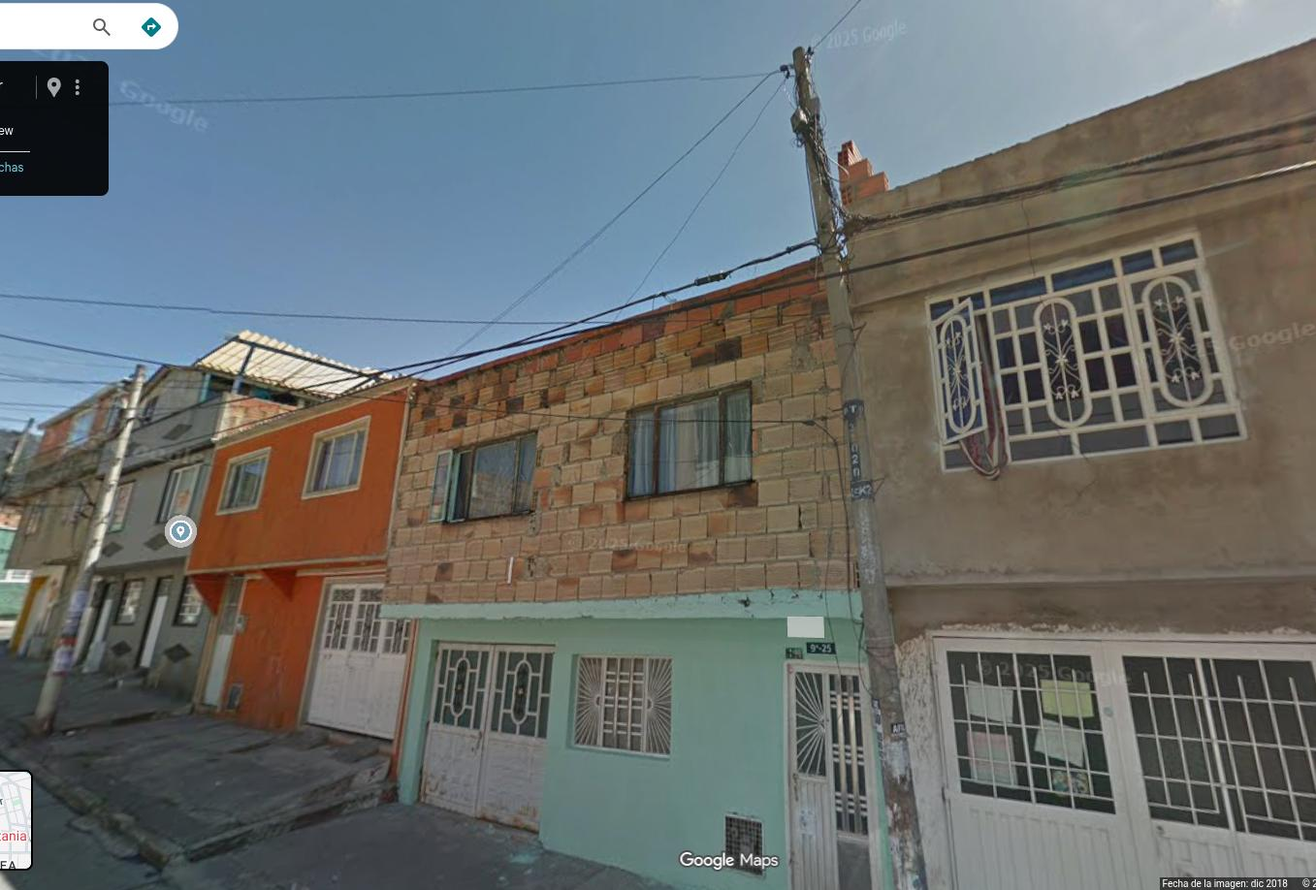casa: (840, 39, 1315, 889), (386, 262, 876, 889), (186, 380, 414, 757)
poste: (792, 47, 926, 889)
